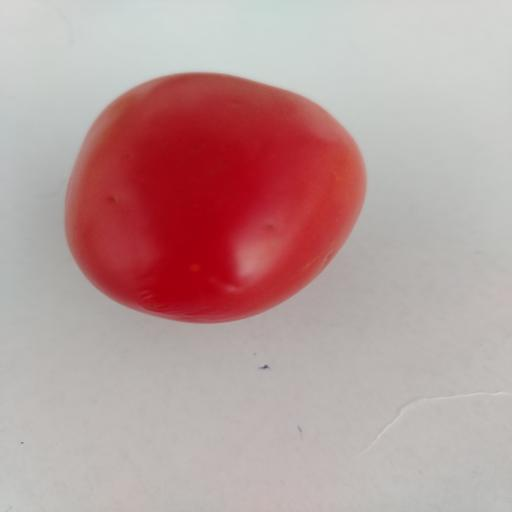ripe: (65, 73, 365, 323)
